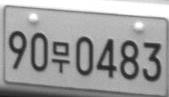0: (29, 31, 48, 72), (75, 35, 93, 75)
3: (142, 41, 161, 81)
4: (96, 38, 117, 78)
8: (119, 39, 139, 80)
9: (7, 29, 27, 69)
무: (51, 40, 70, 73)
